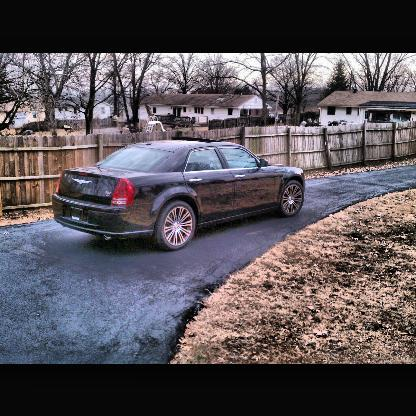Chrysler 300 SRT-8 2010: (51, 135, 308, 252)
